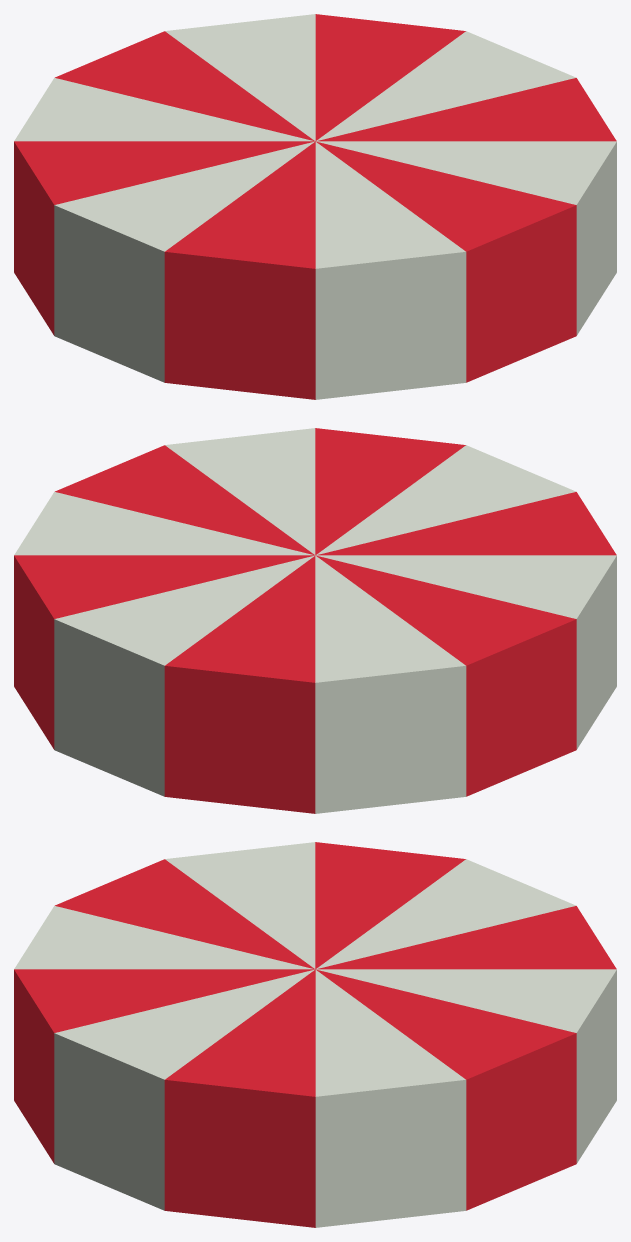
Rendered from Mint.fbx.
The picture shows the model from 3 angles, top to bottom: view 1: azimuth 30°, elevation 25°; view 2: azimuth 150°, elevation 25°; view 3: azimuth 270°, elevation 25°; orthographic projection.
Visible parts, largest first — view 1: Circle; view 2: Circle; view 3: Circle.
Part boxes in pixels (x1=…): Circle: x1=14, y1=14, x2=616, y2=399; Circle: x1=14, y1=428, x2=616, y2=813; Circle: x1=14, y1=842, x2=616, y2=1227.
Bounding box in the file's own units: 125 × 29.92 × 125.
